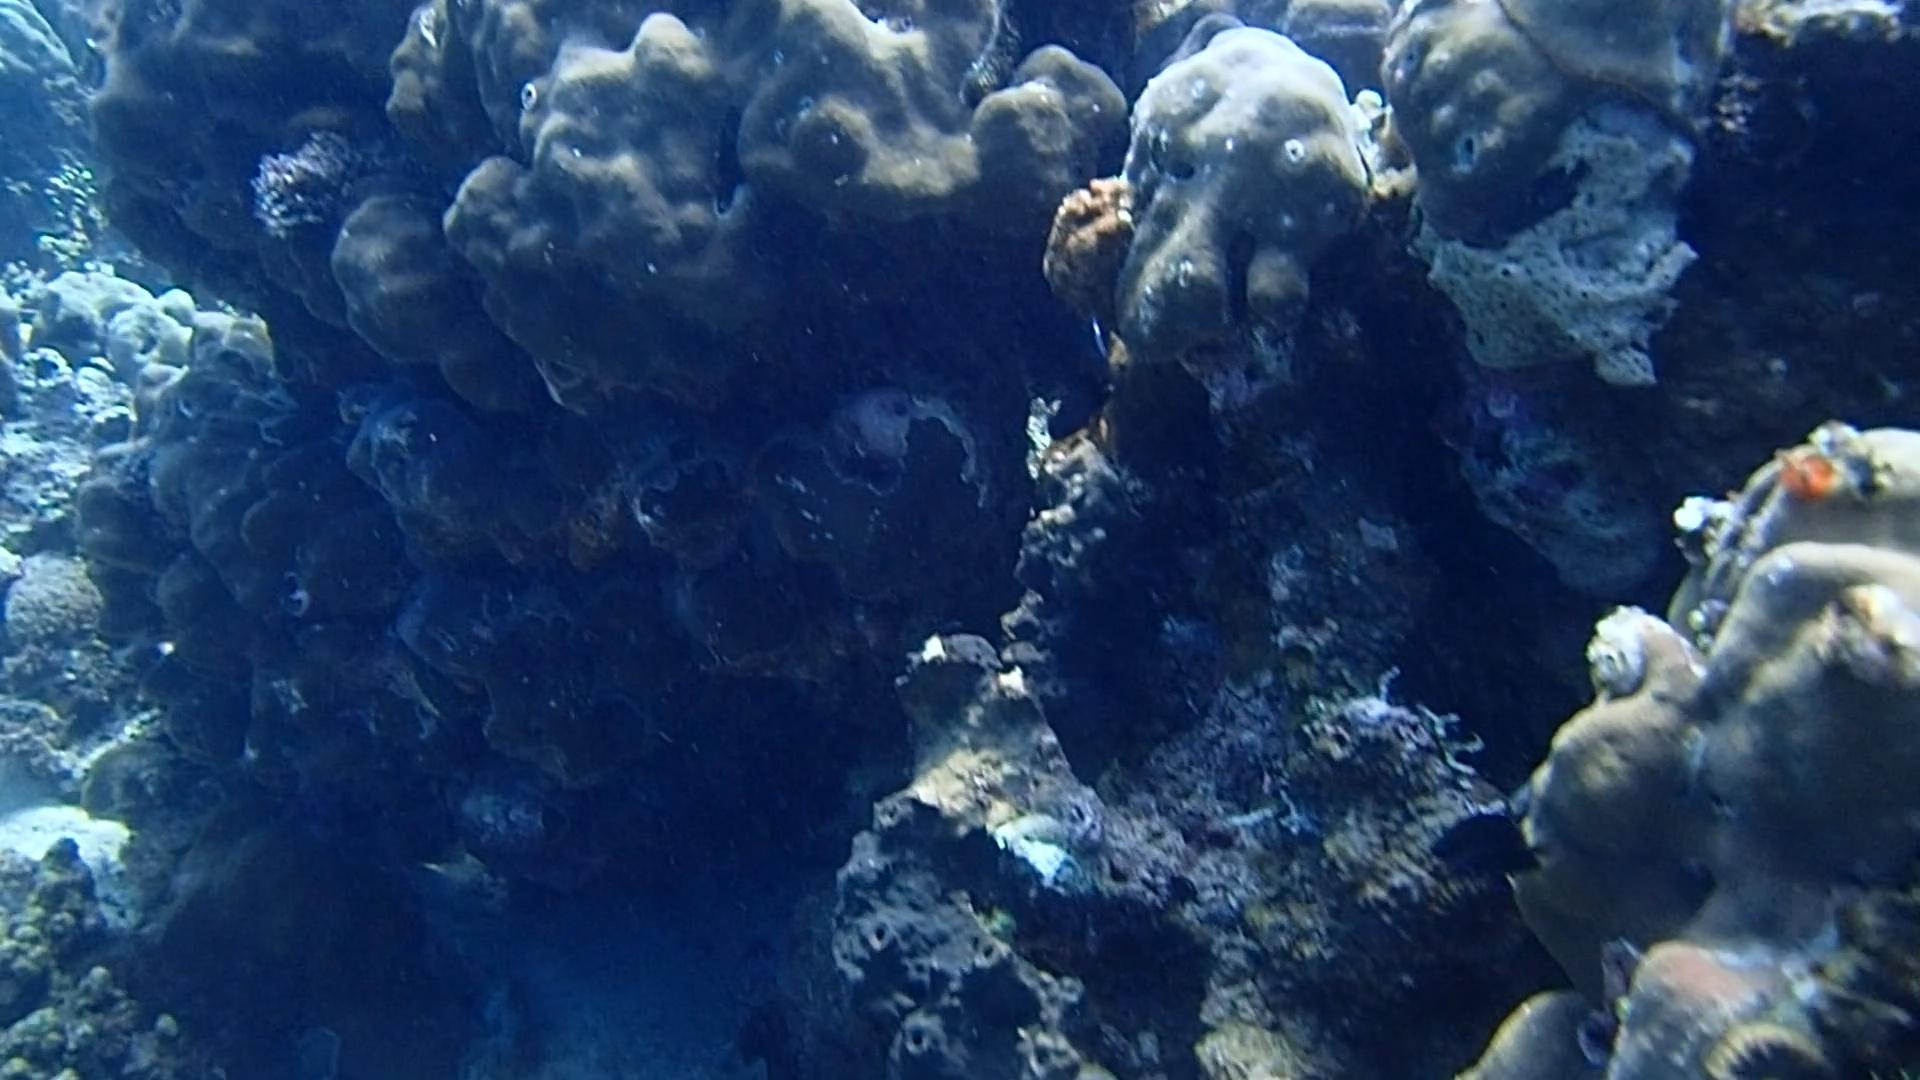Dark Fish: (1432, 820, 1560, 902), (1420, 798, 1531, 870)
